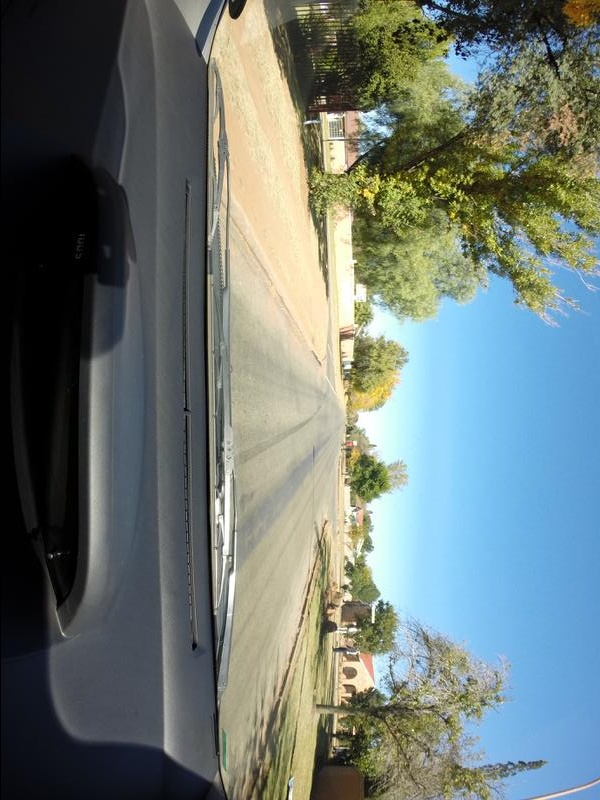pothole: (310, 448, 315, 470)
